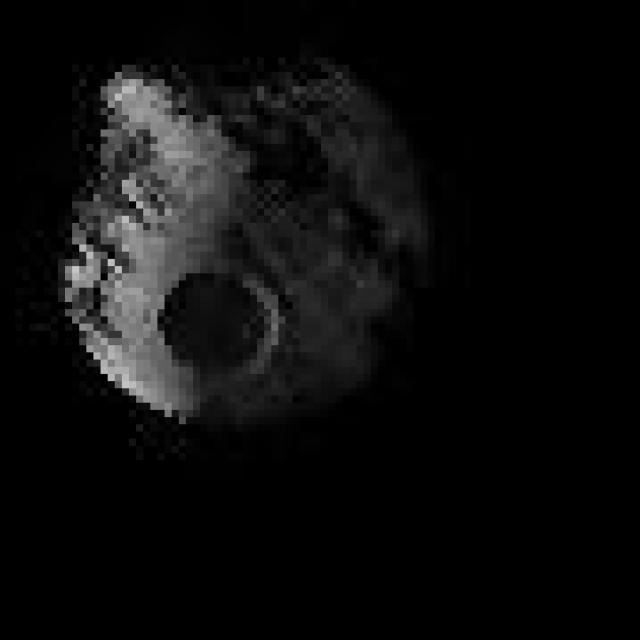Death Star: (50, 43, 448, 439)
